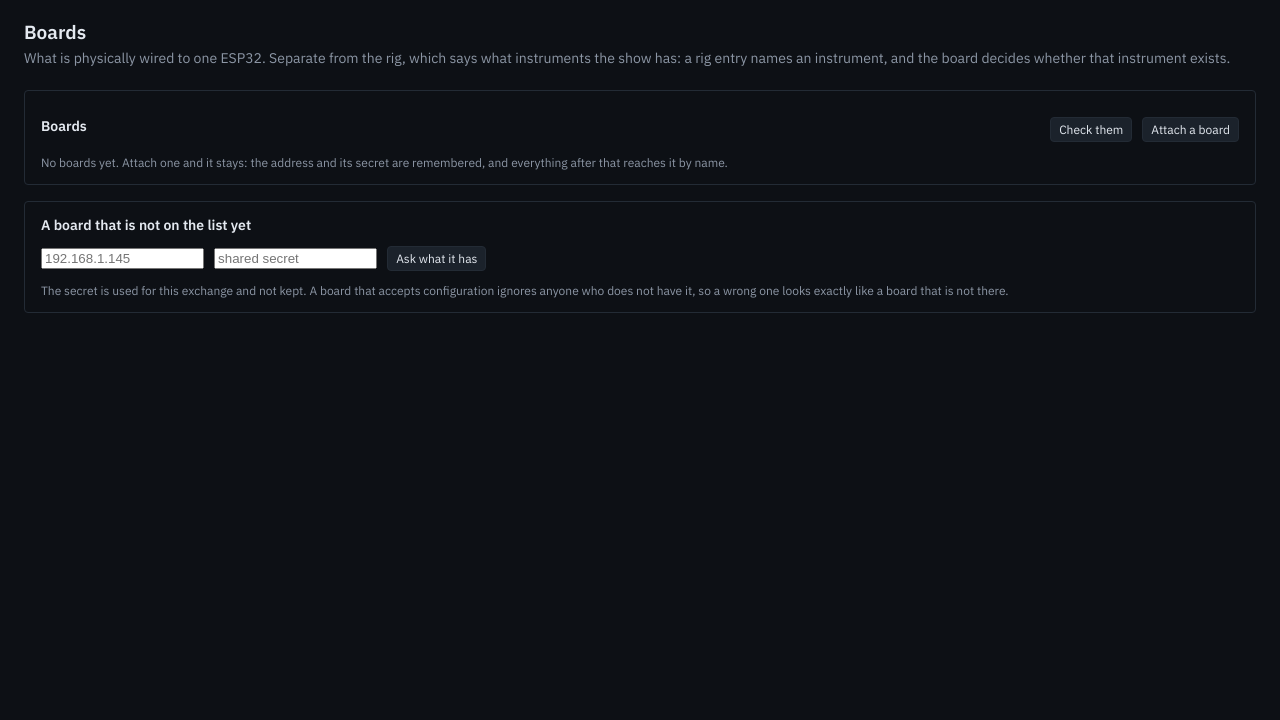
reaching a board › says what a fresh board is, rather than showing an empty list
Type "127.0.0.1:5599" into the field named "Board address" at (123,258), box [41,248,204,269]
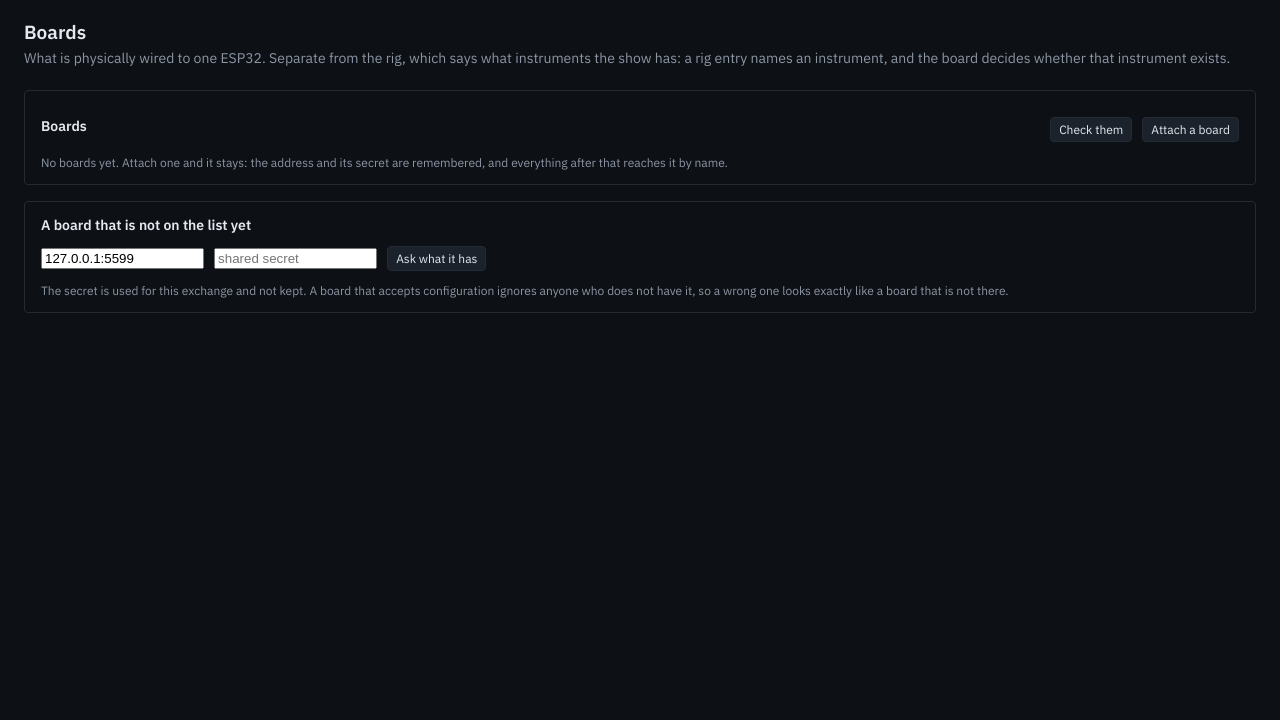
Type "bench secret" into the password field labelled "shared secret" at (296,258), box [214,248,377,269]
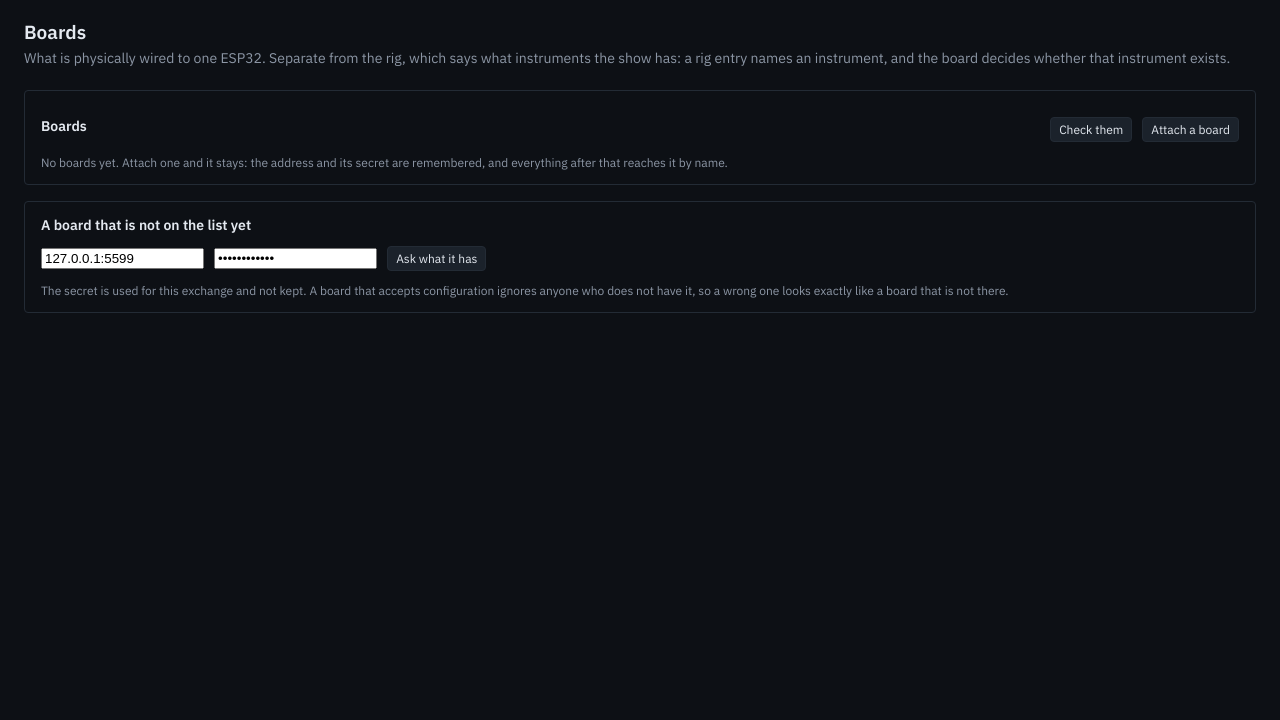
Click the button "Ask what it has" at (437,258), box [387,246,486,271]
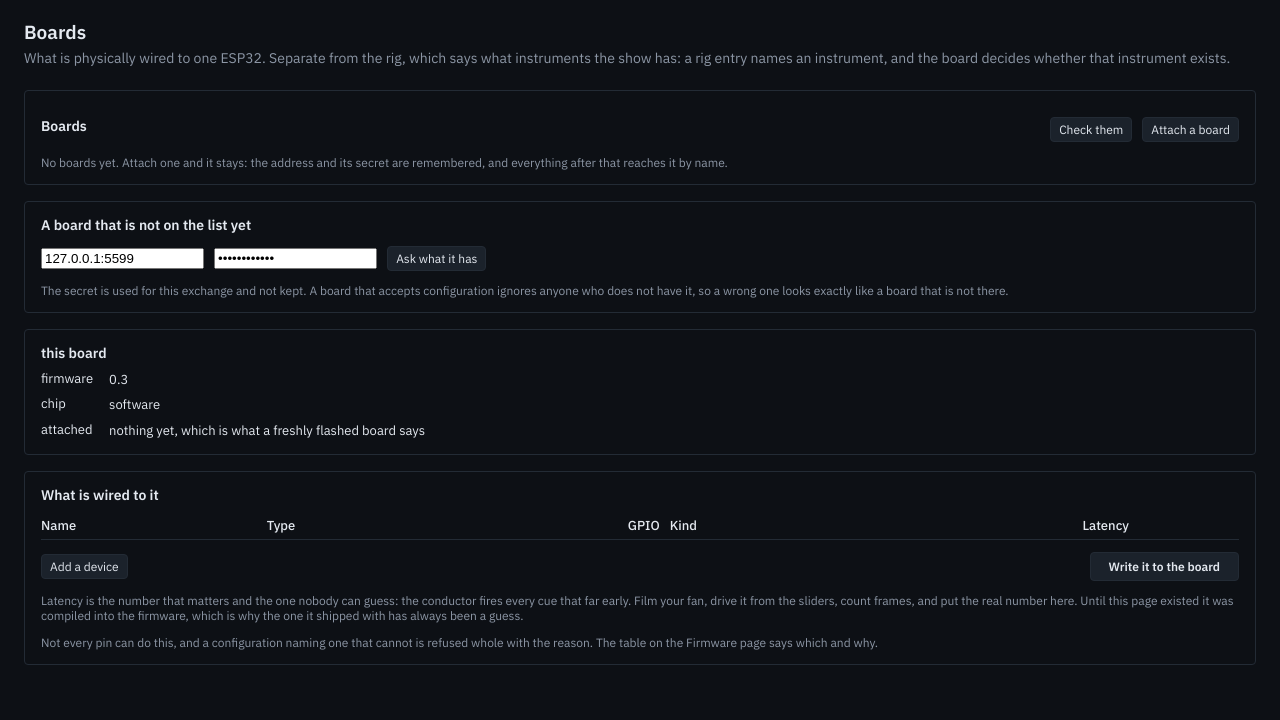
Now the text "nothing yet, which is what a freshly flashed board says" is shown, box [109,422,425,439]
